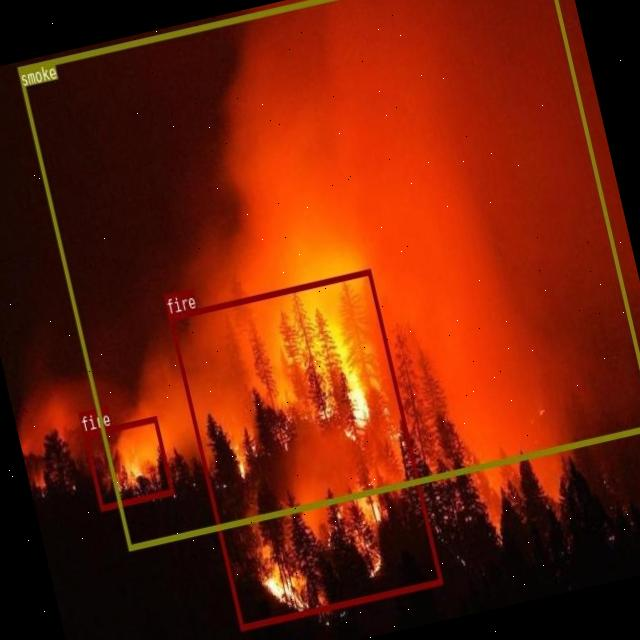fire: (167, 269, 441, 629), (82, 414, 173, 510)
smoke: (16, 0, 640, 549)
